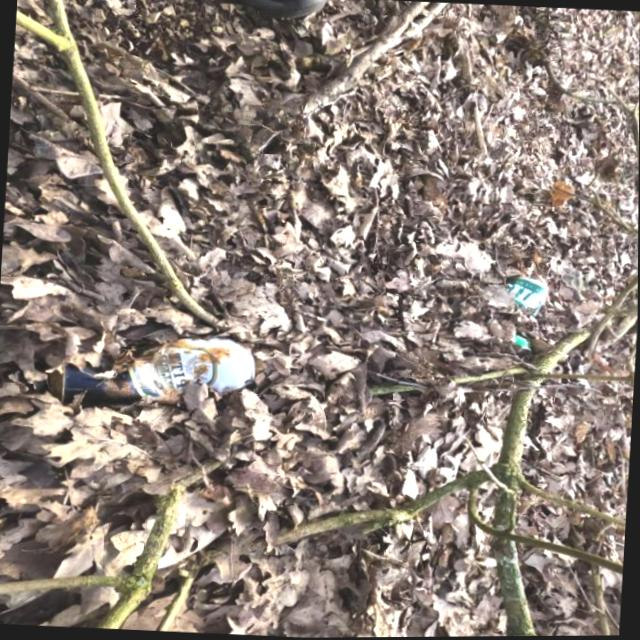Can-Metal: (50, 321, 265, 424), (477, 267, 554, 357)
